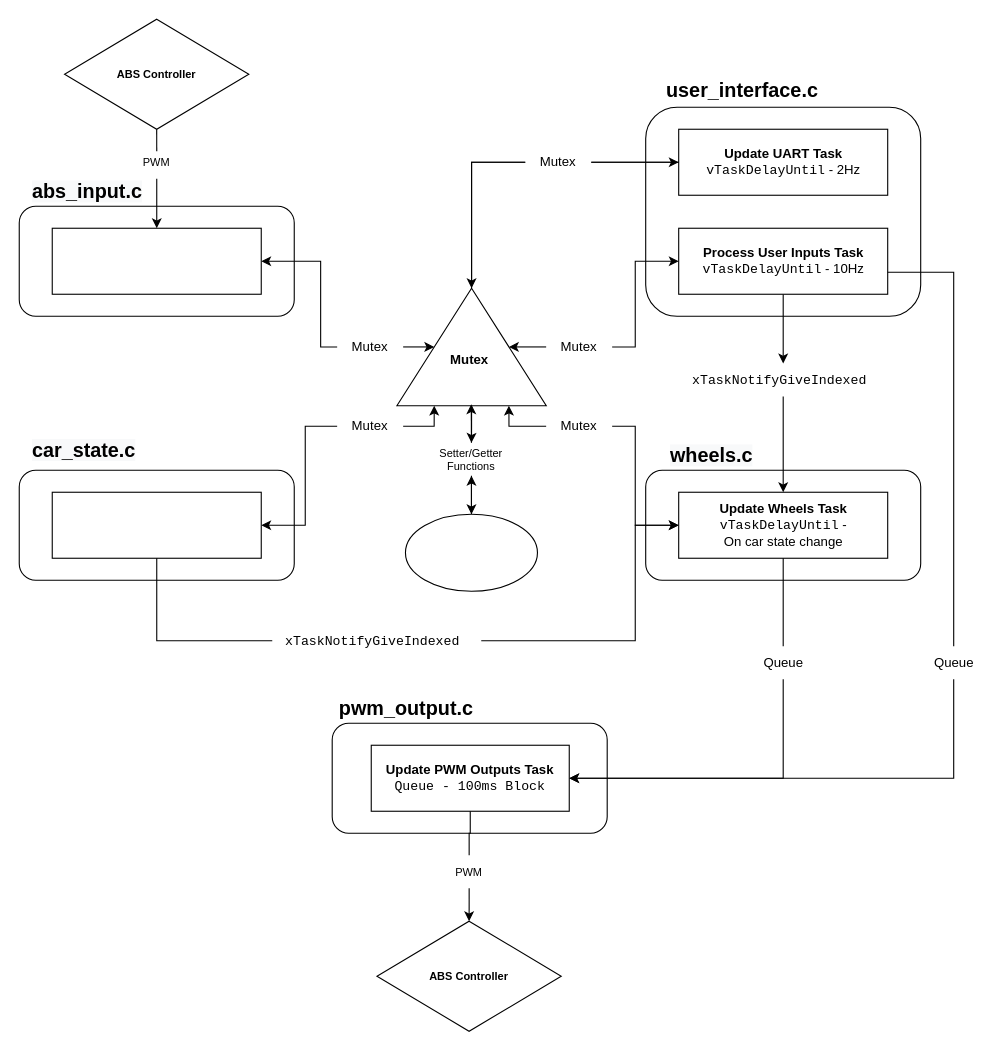
The diagram is 1005 pixels wide and 1051 high, and some of its shapes have lost their labels. Here are the shapes that lost their labels. From the top down, the box of each, then its label:
(51, 227, 261, 294): ABS Input Task vTaskDelayUntil - 20Hz
(51, 491, 261, 558): Deceleration Task vTaskDelayUntil - 20Hz
(404, 513, 537, 591): Car State shared resources
